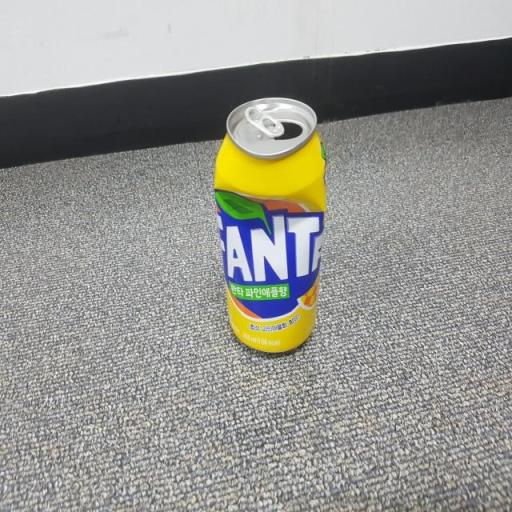metal: (204, 76, 356, 372)
